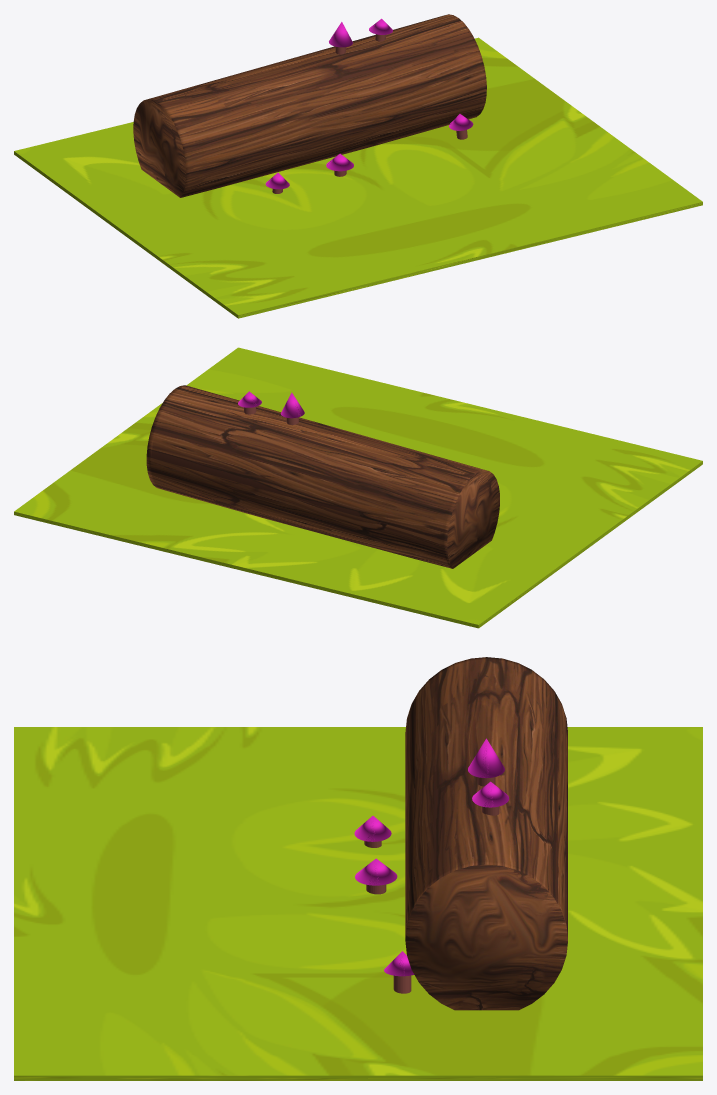
3 views of the same model, one above another, from view 1: azimuth 30°, elevation 25°; view 2: azimuth 150°, elevation 25°; view 3: azimuth 270°, elevation 25° (orthographic). The views are drawn at different scales.
Visible parts, largest first — view 1: Куб, Цилиндр; view 2: Куб, Цилиндр; view 3: Куб, Цилиндр, Конус.003, Конус.002.
Boxes of the visible parts, bbox=[...] form: Куб: bbox=[14, 37, 702, 318]; Цилиндр: bbox=[133, 14, 486, 197]; Куб: bbox=[14, 347, 702, 628]; Цилиндр: bbox=[146, 385, 499, 568]; Куб: bbox=[14, 727, 702, 1080]; Цилиндр: bbox=[405, 657, 567, 1010]; Конус.003: bbox=[468, 738, 504, 778]; Конус.002: bbox=[355, 858, 397, 885].
Size of the model in its own units: 946 by 261 by 791.
